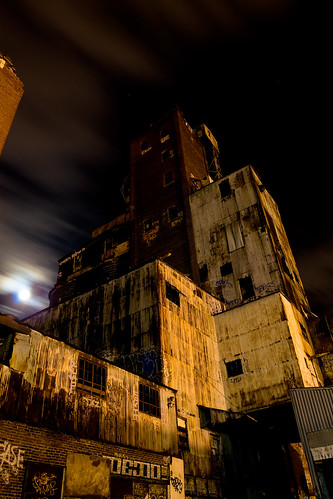building: (1, 89, 333, 499)
sky: (31, 1, 333, 113)
